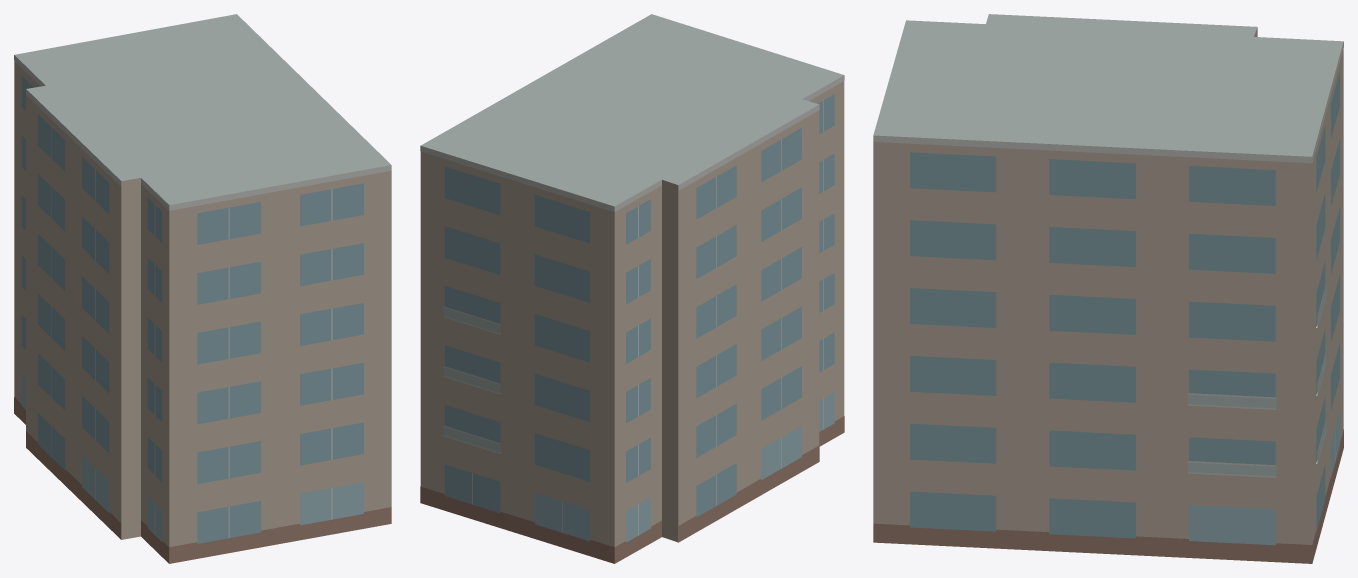
File: survey-upis-32679570.glb
3 renders of one model, left to right at view 1: azimuth 30°, elevation 25°; view 2: azimuth 150°, elevation 25°; view 3: azimuth 270°, elevation 25°, orthographic. The views are drawn at different scales.
Parts seen in each view (by area): view 1: survey-upis-32679570.tmp; view 2: survey-upis-32679570.tmp; view 3: survey-upis-32679570.tmp.
Boxes of the visible parts, left/top/right/bottom form: survey-upis-32679570.tmp: left=14, top=14, right=391, bottom=563; survey-upis-32679570.tmp: left=420, top=14, right=844, bottom=563; survey-upis-32679570.tmp: left=873, top=14, right=1343, bottom=563.
Size of the model in its own units: 11.6 by 15.4 by 16.14.
